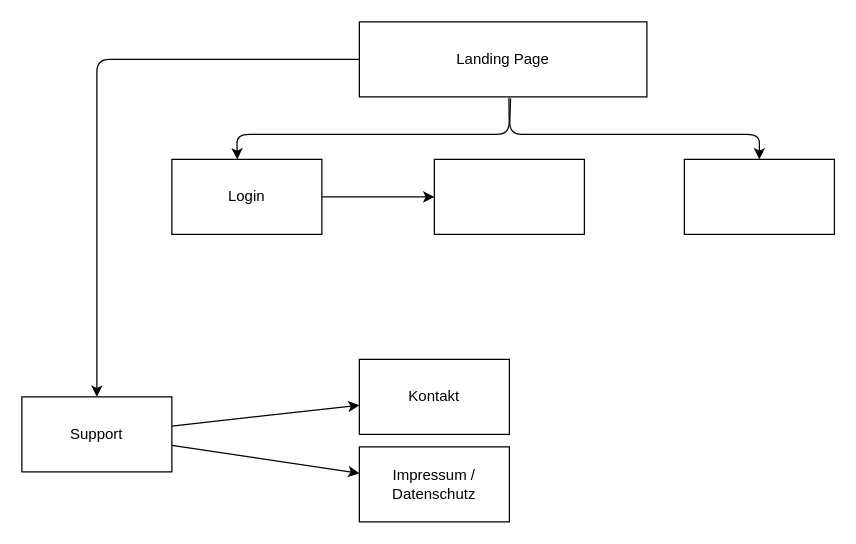
Image size: 856x544. Some labels were removed from this diagram. Each missing label, with the box of its shape:
All Advancements: (683, 158, 834, 234)
User: (433, 158, 584, 234)
